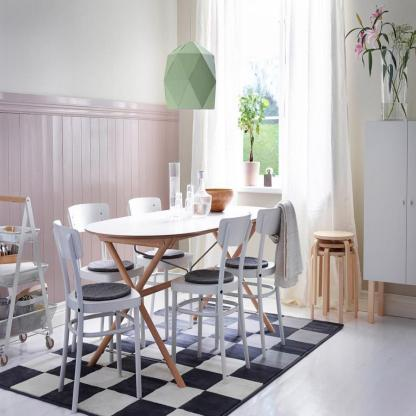Chair: (51, 219, 144, 413)
